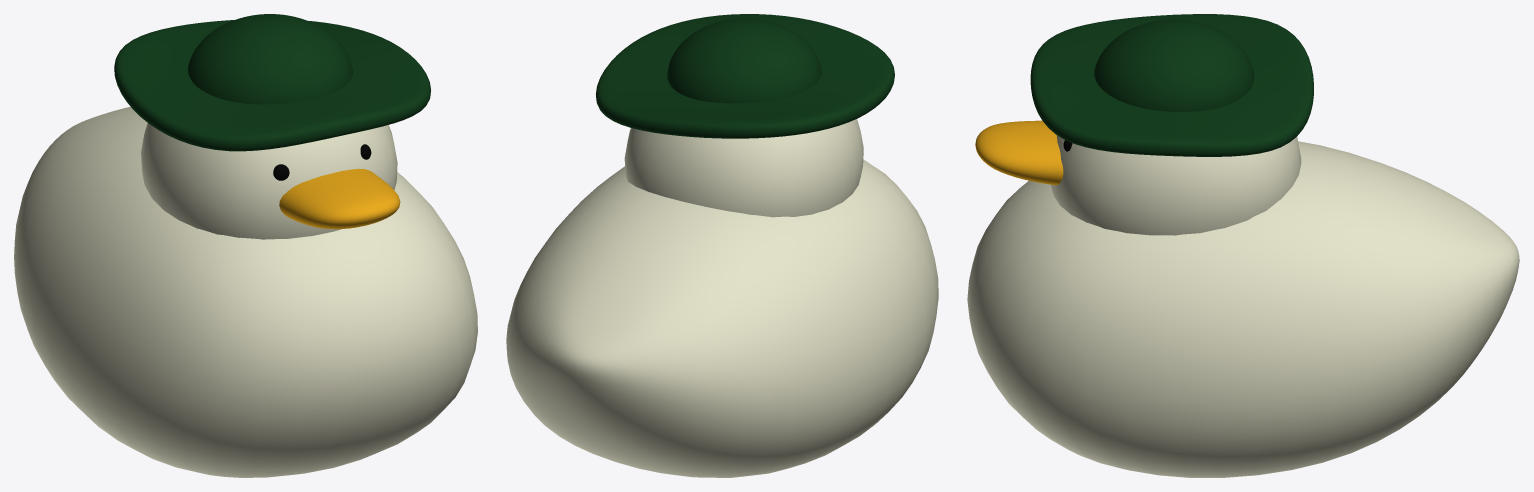
3 views of the same model, side by side, from view 1: azimuth 30°, elevation 25°; view 2: azimuth 150°, elevation 25°; view 3: azimuth 270°, elevation 25° (orthographic). The views are drawn at different scales.
Visible parts, largest first — view 1: Cube.025, Cube.027, Cube.024, Sphere.002, Cube.026; view 2: Cube.025, Cube.027, Cube.024, Sphere.002; view 3: Cube.025, Cube.027, Cube.024, Sphere.002, Cube.026.
Part boxes in pixels (x1=…): Cube.025: x1=14, y1=106, x2=477, y2=477; Cube.027: x1=114, y1=20, x2=430, y2=151; Cube.024: x1=141, y1=123, x2=397, y2=239; Sphere.002: x1=188, y1=14, x2=352, y2=104; Cube.026: x1=279, y1=168, x2=400, y2=229; Cube.025: x1=506, y1=159, x2=938, y2=477; Cube.027: x1=596, y1=14, x2=894, y2=138; Cube.024: x1=624, y1=119, x2=863, y2=217; Sphere.002: x1=667, y1=18, x2=821, y2=103; Cube.025: x1=967, y1=141, x2=1519, y2=477; Cube.027: x1=1030, y1=14, x2=1313, y2=156; Cube.024: x1=1051, y1=135, x2=1301, y2=235; Sphere.002: x1=1094, y1=19, x2=1254, y2=111; Cube.026: x1=975, y1=120, x2=1063, y2=185.
Bounding box in the file's own units: 2.02 × 2.32 × 2.8.
